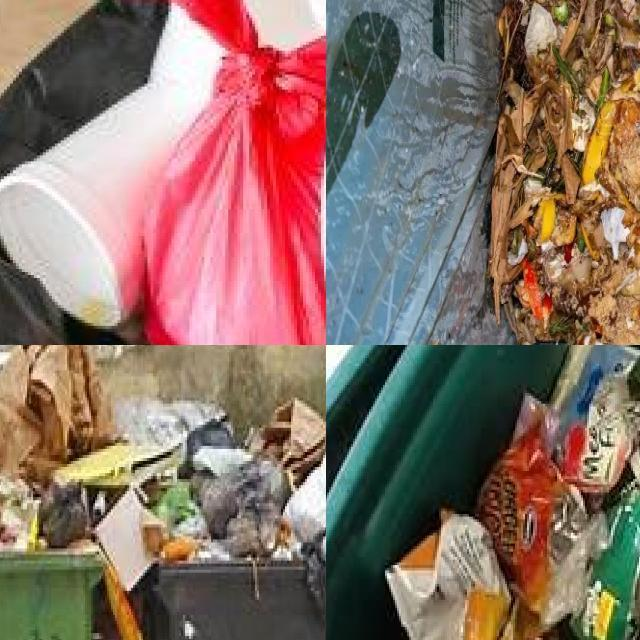Garbage: (386, 345, 640, 640), (488, 0, 640, 345), (0, 349, 117, 549), (284, 452, 326, 542)
Plastic_wraper: (477, 426, 593, 629), (386, 512, 511, 640), (550, 345, 640, 492), (570, 487, 640, 640)
